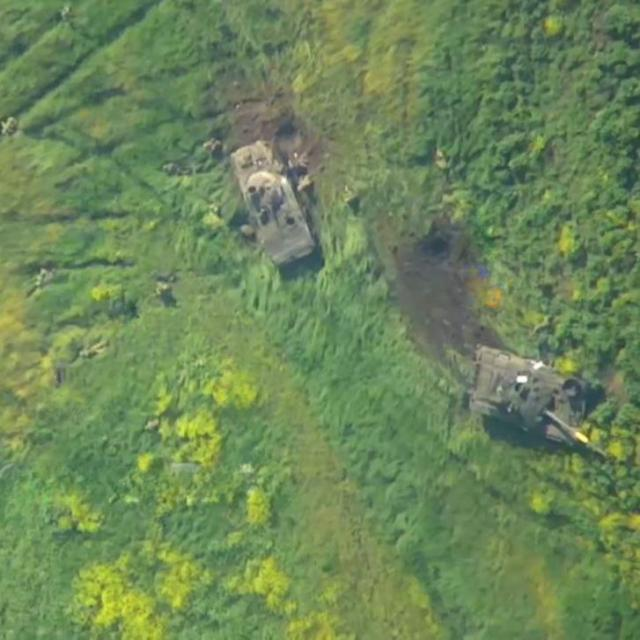AIFV: (225, 141, 319, 274)
MBT: (455, 344, 610, 459)
